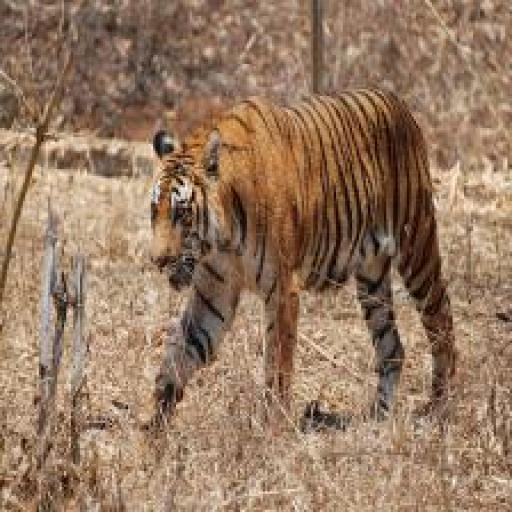Tiger: (132, 78, 470, 443)
